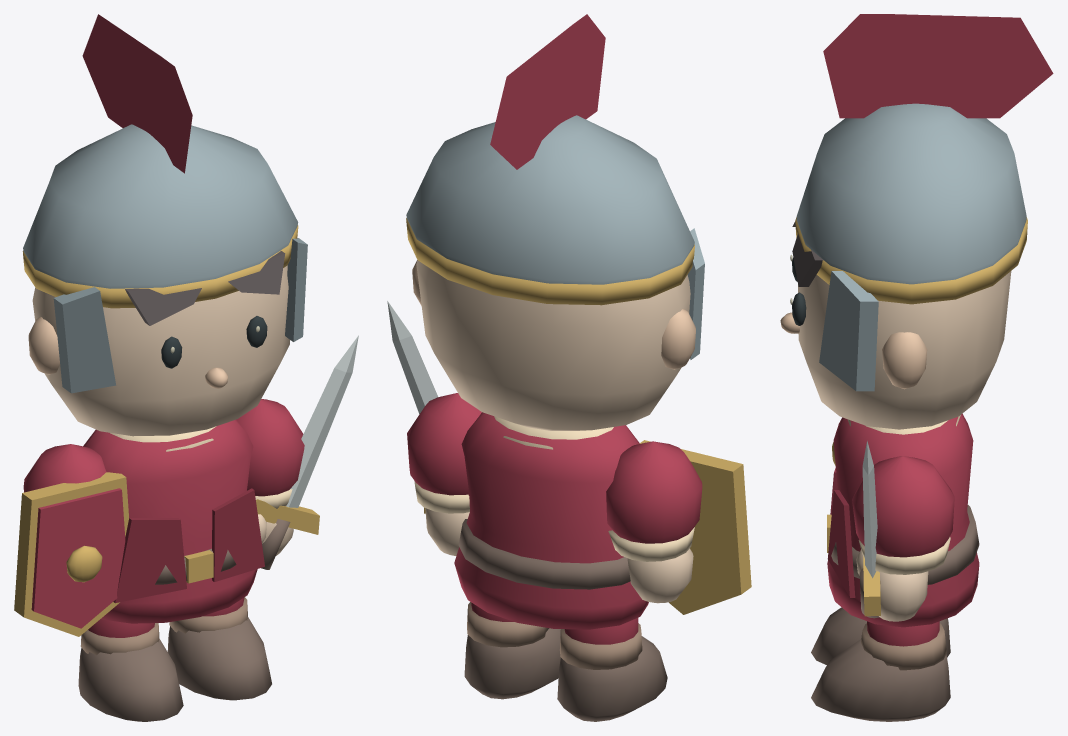
Rendered from warrior.glb.
The picture shows the model from 3 angles, left to right: view 1: azimuth 30°, elevation 25°; view 2: azimuth 150°, elevation 25°; view 3: azimuth 270°, elevation 25°; orthographic projection. The views are drawn at different scales.
Parts seen in each view (by area): view 1: Regional helmet, Soft cheek head, Short folded tunic, Regional shield face, Roman horsehair fan, Round leather boot, Round leather boot.001, Roman cheekplate, Shield gold rim, Coat fold, Puff sleeve.001, Coat fold.001 (+15 smaller); view 2: Regional helmet, Soft cheek head, Short folded tunic, Roman horsehair fan, Shield gold rim, Puff sleeve, Helmet brow band, Round leather boot, Puff sleeve.001, Round leather boot.001, Broad leather belt, Little mitten (+10 smaller); view 3: Regional helmet, Roman horsehair fan, Soft cheek head, Short folded tunic, Round leather boot.001, Puff sleeve.001, Roman cheekplate.001, Helmet brow band, Ear.001, Little mitten.001, Boot turn cuff.001, Round leather boot (+7 smaller).
Part boxes in pixels (x1,y1,x2,y2): Regional helmet: (23, 124, 298, 288); Soft cheek head: (32, 265, 290, 436); Short folded tunic: (83, 419, 257, 623); Regional shield face: (31, 488, 125, 628); Roman horsehair fan: (82, 14, 192, 173); Round leather boot: (78, 638, 183, 721); Round leather boot.001: (167, 617, 271, 700); Roman cheekplate: (53, 287, 116, 393); Shield gold rim: (14, 472, 128, 636); Coat fold: (113, 518, 186, 603); Puff sleeve.001: (236, 399, 304, 496); Coat fold.001: (212, 488, 264, 581); Regional helmet: (406, 115, 694, 284); Soft cheek head: (416, 260, 690, 430); Short folded tunic: (454, 412, 648, 629); Roman horsehair fan: (490, 14, 605, 169); Shield gold rim: (639, 440, 751, 614); Puff sleeve: (606, 441, 702, 543); Helmet brow band: (406, 218, 694, 305); Round leather boot: (557, 636, 667, 721); Puff sleeve.001: (407, 393, 481, 495); Round leather boot.001: (464, 628, 560, 699); Broad leather belt: (458, 519, 630, 589); Little mitten: (627, 548, 693, 603); Regional helmet: (796, 103, 1026, 284); Roman horsehair fan: (823, 14, 1053, 118); Soft cheek head: (798, 271, 1011, 429); Short folded tunic: (827, 413, 979, 627); Round leather boot.001: (811, 639, 950, 721); Puff sleeve.001: (852, 456, 954, 557); Roman cheekplate.001: (819, 271, 878, 391); Helmet brow band: (795, 217, 1027, 304); Ear.001: (882, 332, 927, 389); Little mitten.001: (879, 571, 928, 621); Boot turn cuff.001: (861, 623, 946, 670); Round leather boot: (811, 607, 950, 664).
Bounding box in the file's own units: 1 × 1.79 × 0.664.
